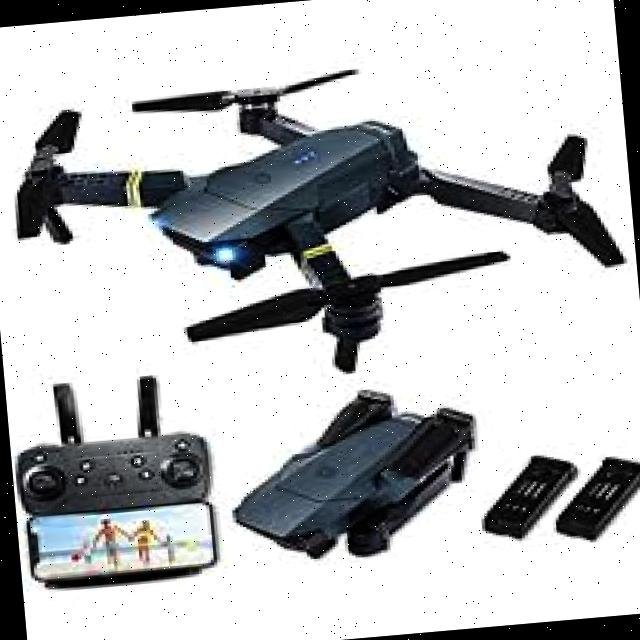drone: (0, 28, 640, 410)
